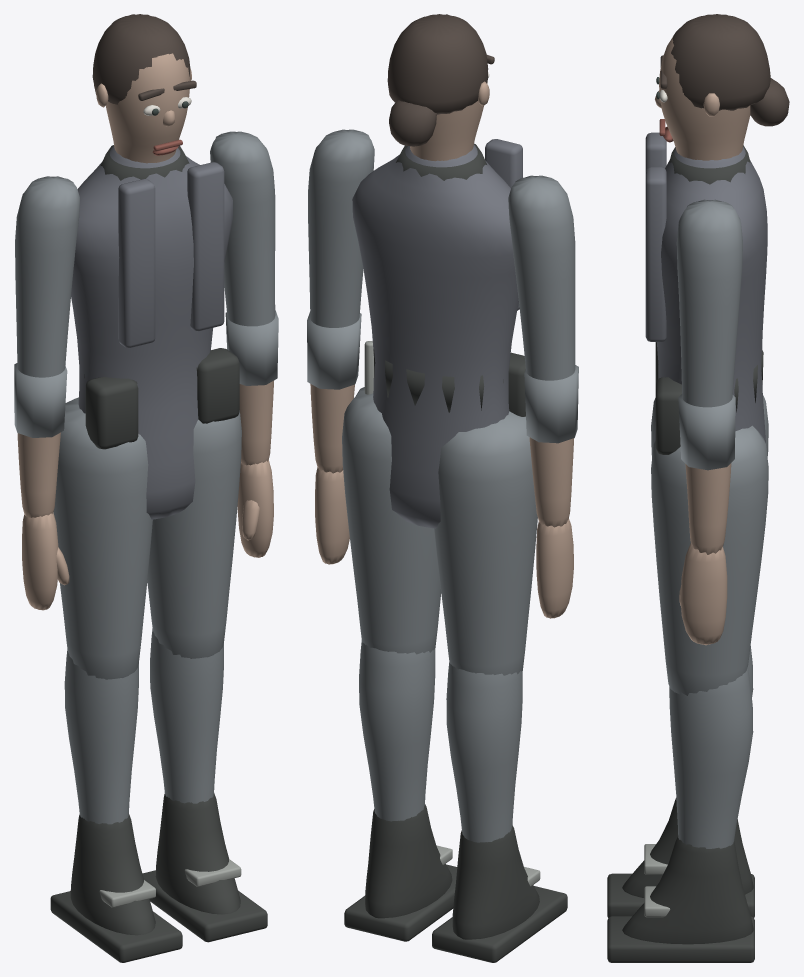
The model's file is resident_b_v6.glb.
The picture shows the model from 3 angles, left to right: view 1: azimuth 30°, elevation 25°; view 2: azimuth 150°, elevation 25°; view 3: azimuth 270°, elevation 25°; orthographic projection. The views are drawn at different scales.
Parts seen in each view (by area): view 1: Resident_Torso, Resident_Leg_-1, Resident_Leg_1, Resident_Arm_-1, Resident_Shin_-1, Resident_Shin_1, Resident_Arm_1, Resident_Boot_-1, Resident_Boot_1, Resident_Strap_-1, Resident_Head, Resident_Strap_1 (+15 smaller); view 2: Resident_Torso, Resident_Leg_-1, Resident_Leg_1, Resident_Arm_-1, Resident_Shin_-1, Resident_Shin_1, Resident_Arm_1, Resident_Hair, Resident_Boot_-1, Resident_Boot_1, Resident_Cuff_-1, Resident_BootSole_-1 (+12 smaller); view 3: Resident_Leg_1, Resident_Torso, Resident_Arm_1, Resident_Shin_1, Resident_Boot_1, Resident_Hair, Resident_Head, Resident_Hand_1, Resident_BootSole_1, Resident_Cuff_1, Resident_Strap_1, Resident_Forearm_1 (+8 smaller).
Boxes of the visible parts, box(x1,y1,x2,y2) form: Resident_Torso: box(71, 146, 232, 519); Resident_Leg_-1: box(53, 397, 152, 679); Resident_Leg_1: box(147, 410, 241, 658); Resident_Arm_-1: box(15, 176, 79, 377); Resident_Shin_-1: box(64, 650, 138, 824); Resident_Shin_1: box(150, 628, 223, 803); Resident_Arm_1: box(210, 131, 275, 326); Resident_Boot_-1: box(70, 813, 155, 935); Resident_Boot_1: box(155, 793, 240, 914); Resident_Strap_-1: box(118, 179, 155, 347); Resident_Head: box(105, 53, 189, 163); Resident_Strap_1: box(187, 162, 224, 331); Resident_Torso: box(352, 144, 518, 528); Resident_Leg_-1: box(434, 411, 537, 675); Resident_Leg_1: box(342, 387, 441, 654); Resident_Arm_-1: box(508, 175, 575, 380); Resident_Shin_-1: box(446, 662, 522, 842); Resident_Shin_1: box(359, 640, 435, 821); Resident_Arm_1: box(308, 129, 374, 327); Resident_Hair: box(387, 14, 488, 114); Resident_Boot_-1: box(452, 825, 539, 939); Resident_Boot_1: box(365, 804, 452, 918); Resident_Cuff_-1: box(524, 365, 578, 443); Resident_BootSole_-1: box(432, 886, 567, 962); Resident_Leg_1: box(651, 425, 768, 695); Resident_Torso: box(654, 147, 767, 443); Resident_Arm_1: box(676, 199, 742, 407); Resident_Shin_1: box(669, 667, 753, 848); Resident_Boot_1: box(622, 836, 753, 944); Resident_Hair: box(671, 14, 770, 110); Resident_Head: box(659, 37, 750, 160); Resident_Hand_1: box(680, 543, 727, 645); Resident_BootSole_1: box(607, 916, 754, 962); Resident_Cuff_1: box(678, 394, 735, 470); Resident_Strap_1: box(645, 167, 666, 341); Resident_Forearm_1: box(685, 463, 731, 554).
Bounding box in the file's own units: 0.5738 × 1.88 × 0.3423.
